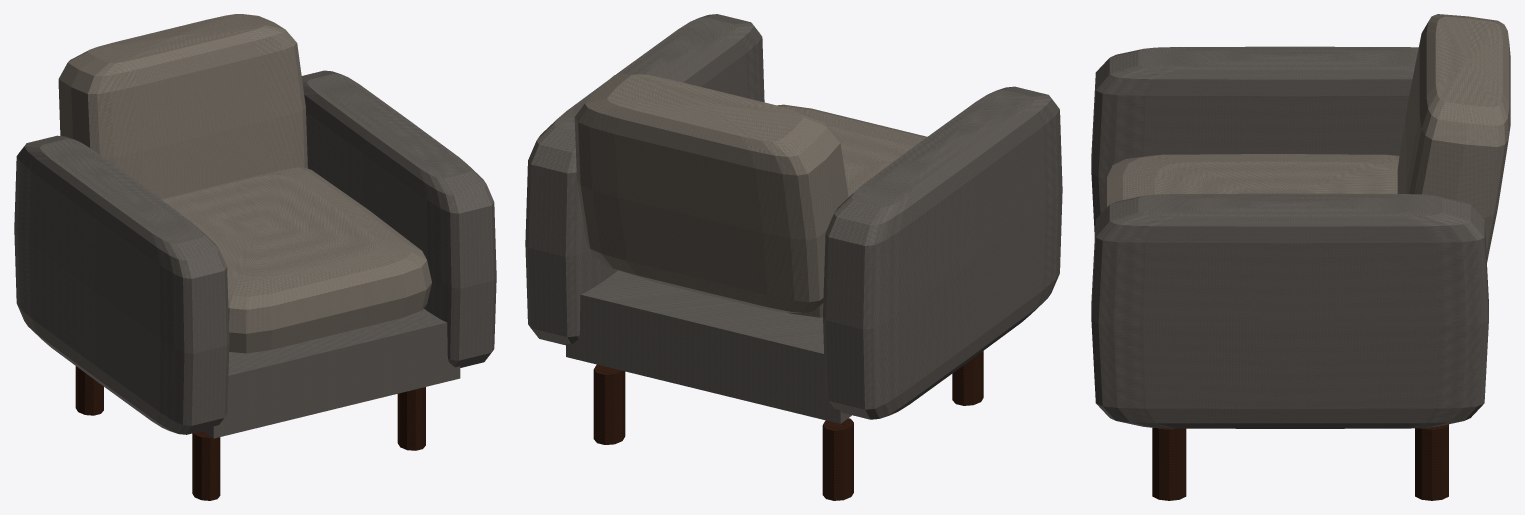
The model's file is armchair_lod2.glb.
3 renders of one model, left to right at view 1: azimuth 30°, elevation 25°; view 2: azimuth 150°, elevation 25°; view 3: azimuth 270°, elevation 25°, orthographic. The views are drawn at different scales.
Visible parts, largest first — view 1: arm_left, back, seat, arm_right, base, leg_3, leg_4, leg_1; view 2: arm_left, back, base, arm_right, seat, leg_1, leg_2, leg_3; view 3: arm_right, arm_left, back, seat, leg_4, leg_2.
Boxes of the visible parts, box(x1,y1,x2,y2) form: arm_left: box(14, 135, 229, 434); back: box(58, 14, 307, 198); seat: box(161, 167, 431, 353); arm_right: box(301, 70, 496, 367); base: box(203, 308, 460, 438); leg_3: box(192, 431, 220, 500); leg_4: box(397, 387, 425, 450); leg_1: box(75, 366, 103, 415); arm_left: box(823, 86, 1062, 419); back: box(574, 73, 848, 312); base: box(566, 270, 851, 423); arm_right: box(525, 14, 764, 345); seat: box(777, 104, 927, 317); leg_1: box(822, 418, 853, 500); leg_2: box(593, 364, 625, 444); leg_3: box(952, 351, 983, 405); arm_right: box(1091, 193, 1488, 428); arm_left: box(1091, 46, 1418, 236); back: box(1397, 14, 1510, 262); seat: box(1101, 154, 1399, 212); leg_4: box(1152, 428, 1186, 500); leg_2: box(1415, 424, 1448, 500).
Size of the model in its own units: 0.9 by 0.9 by 0.9.
3 materials, 3 textured.
